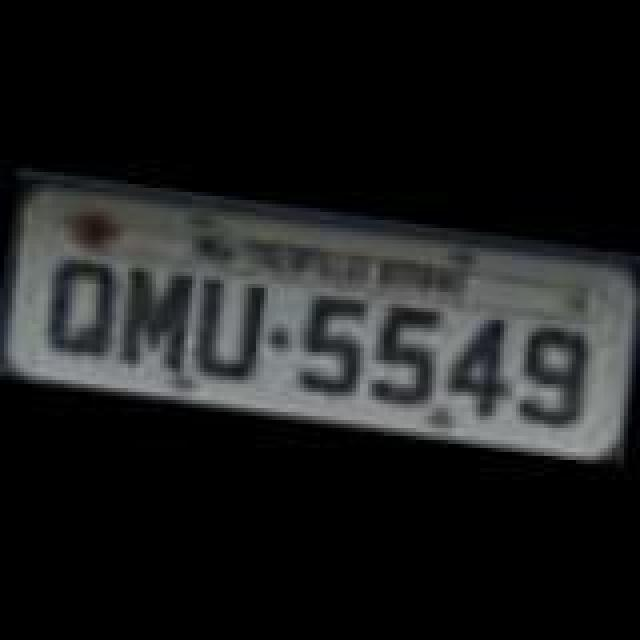4: (440, 308, 520, 428)
5: (366, 304, 450, 416), (296, 288, 376, 400)
9: (510, 328, 594, 440)
M: (118, 266, 202, 374)
Q: (42, 254, 126, 362)
U: (190, 274, 274, 382)
